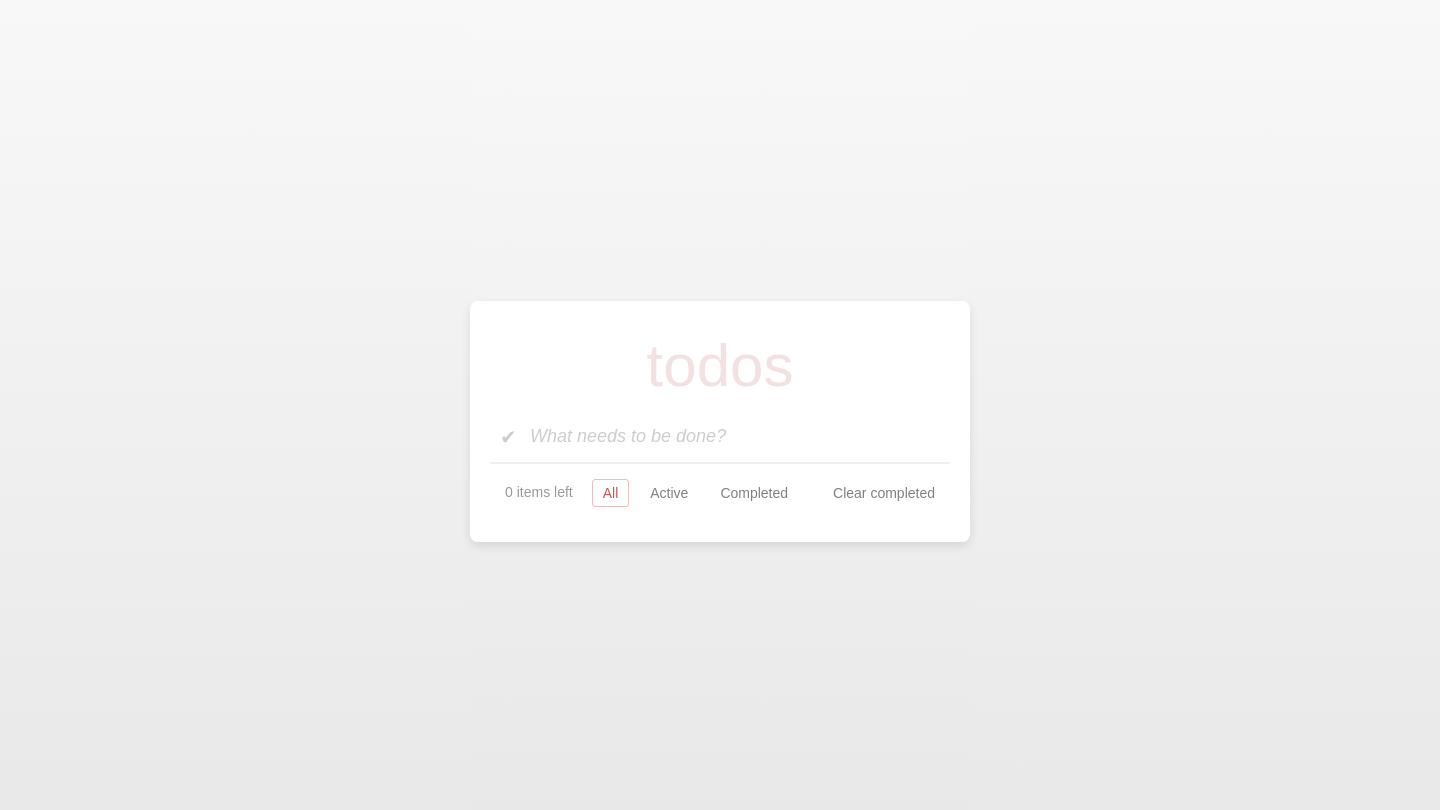
it: Тестирование списка дел (Todo App) › фильтрует задачи (только активные)
Step 1. Type "Активная задача" into the field with placeholder "What needs to be done?" → coordinates (720, 436), box [490, 410, 950, 462]
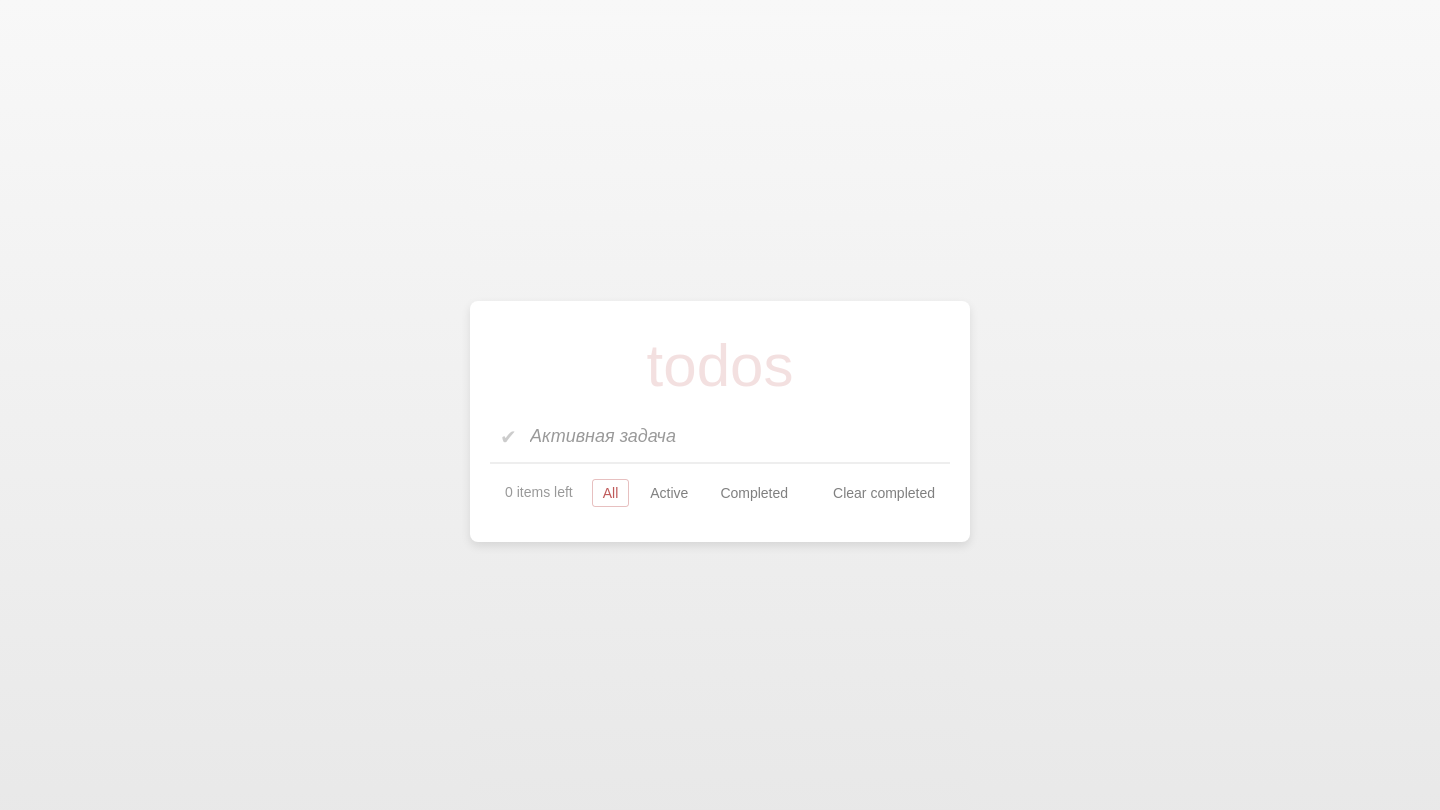
Step 2. Press Enter in the field with placeholder "What needs to be done?", box [490, 410, 950, 462]
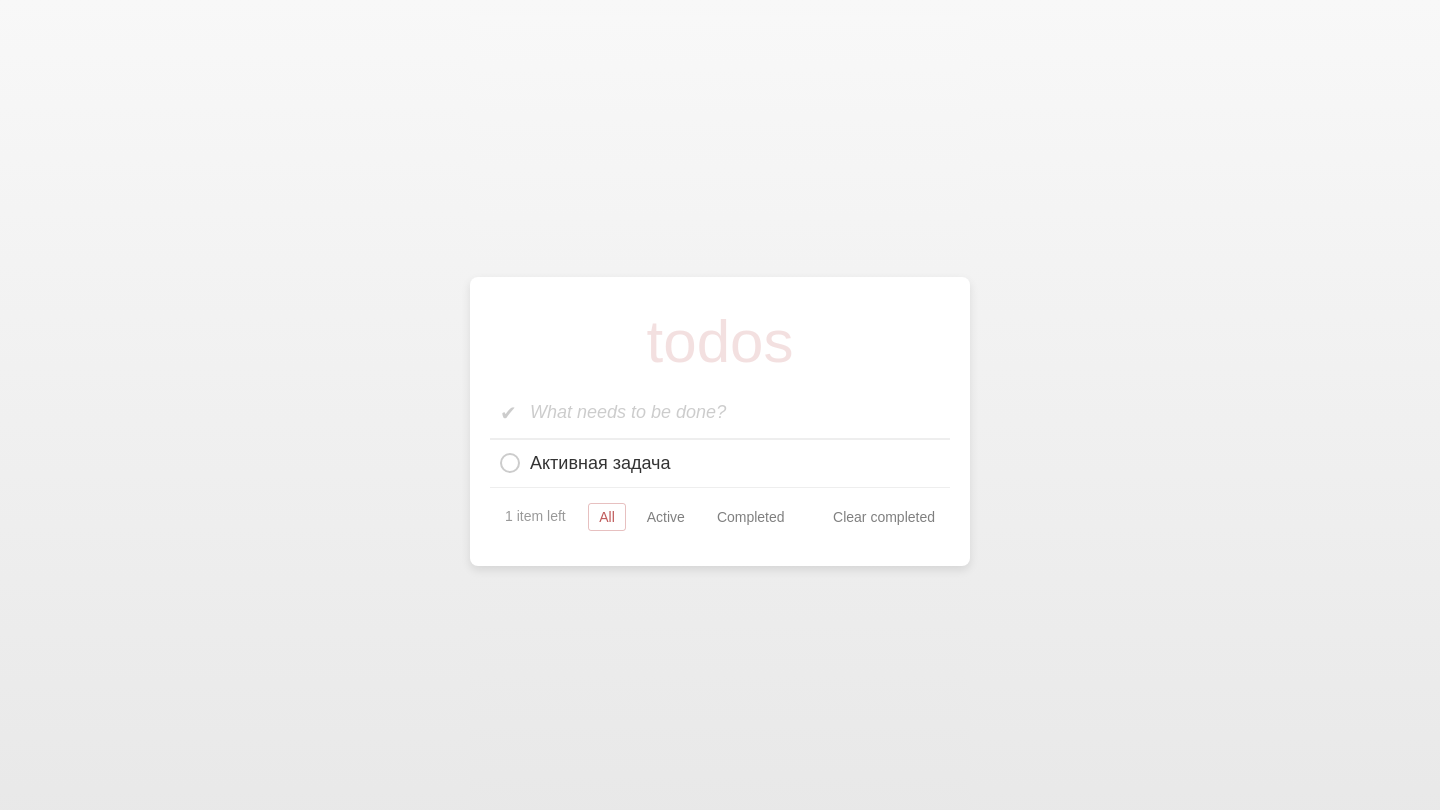
Step 3. Type "Завершенная задача" into the field with placeholder "What needs to be done?" → coordinates (720, 412), box [490, 386, 950, 438]
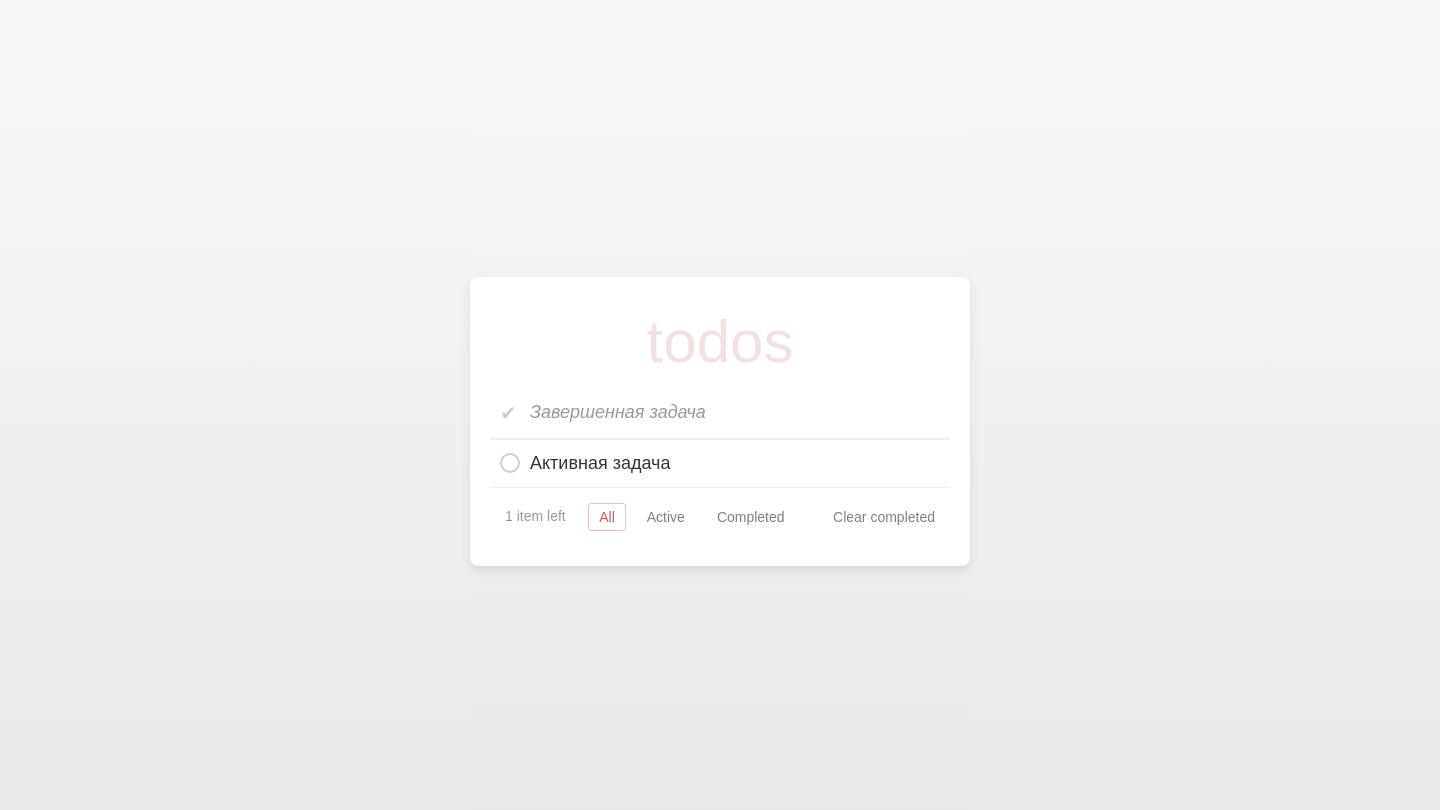
Step 4. Press Enter in the field with placeholder "What needs to be done?", box [490, 386, 950, 438]
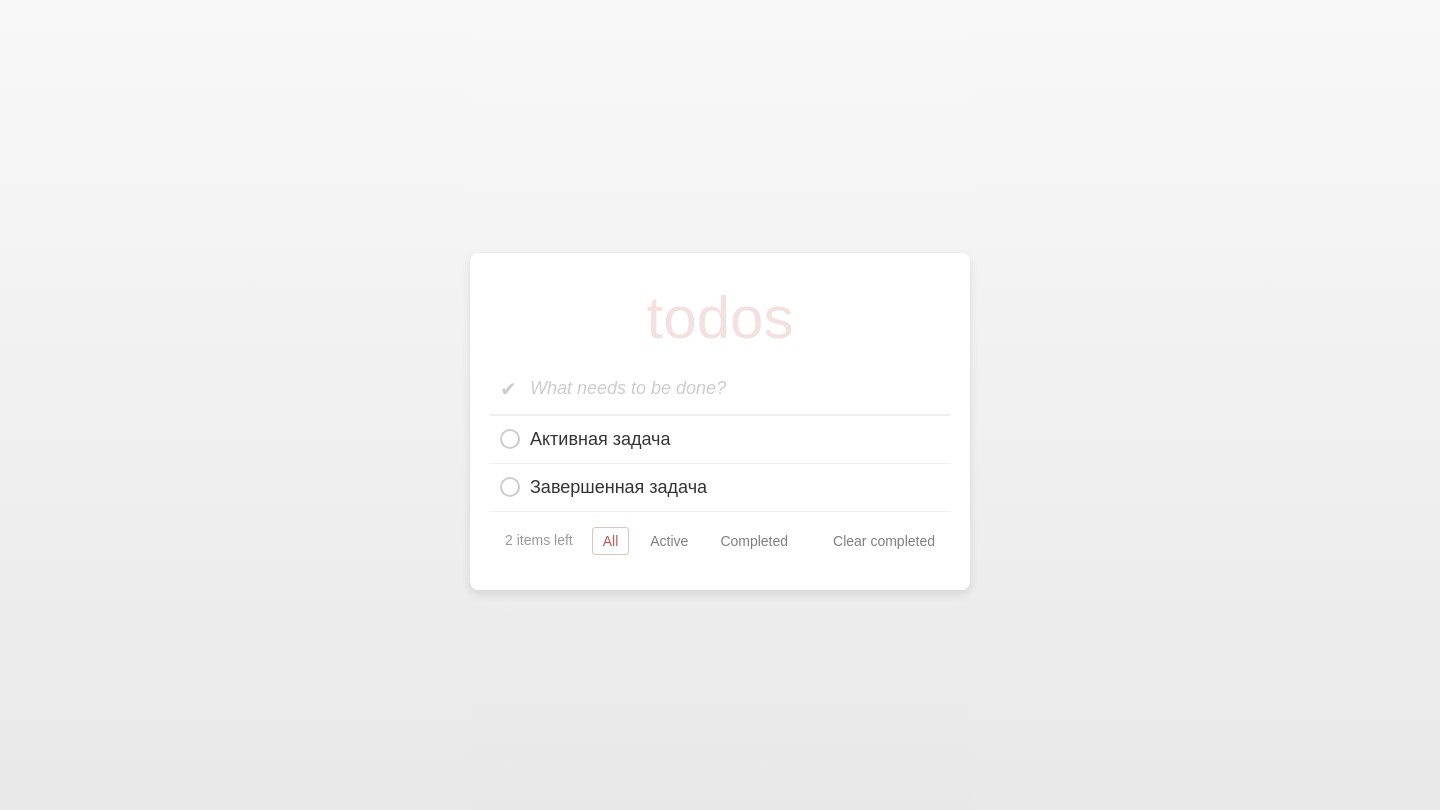
Step 5. Click the checkbox next to "Завершенная задача" → coordinates (510, 487), box [500, 477, 520, 497]
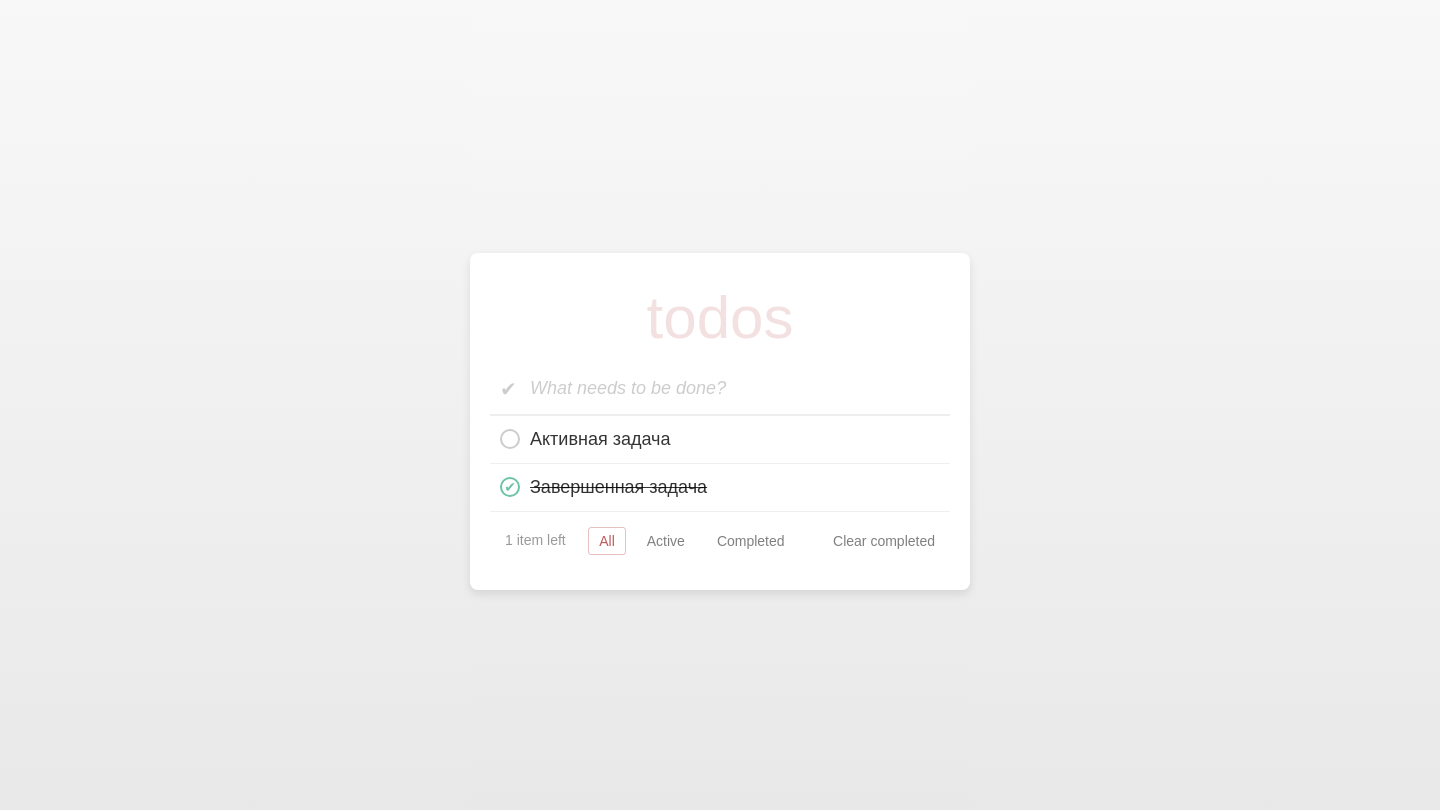
Step 6. Click the button "Active" → coordinates (666, 540), box [636, 526, 696, 554]
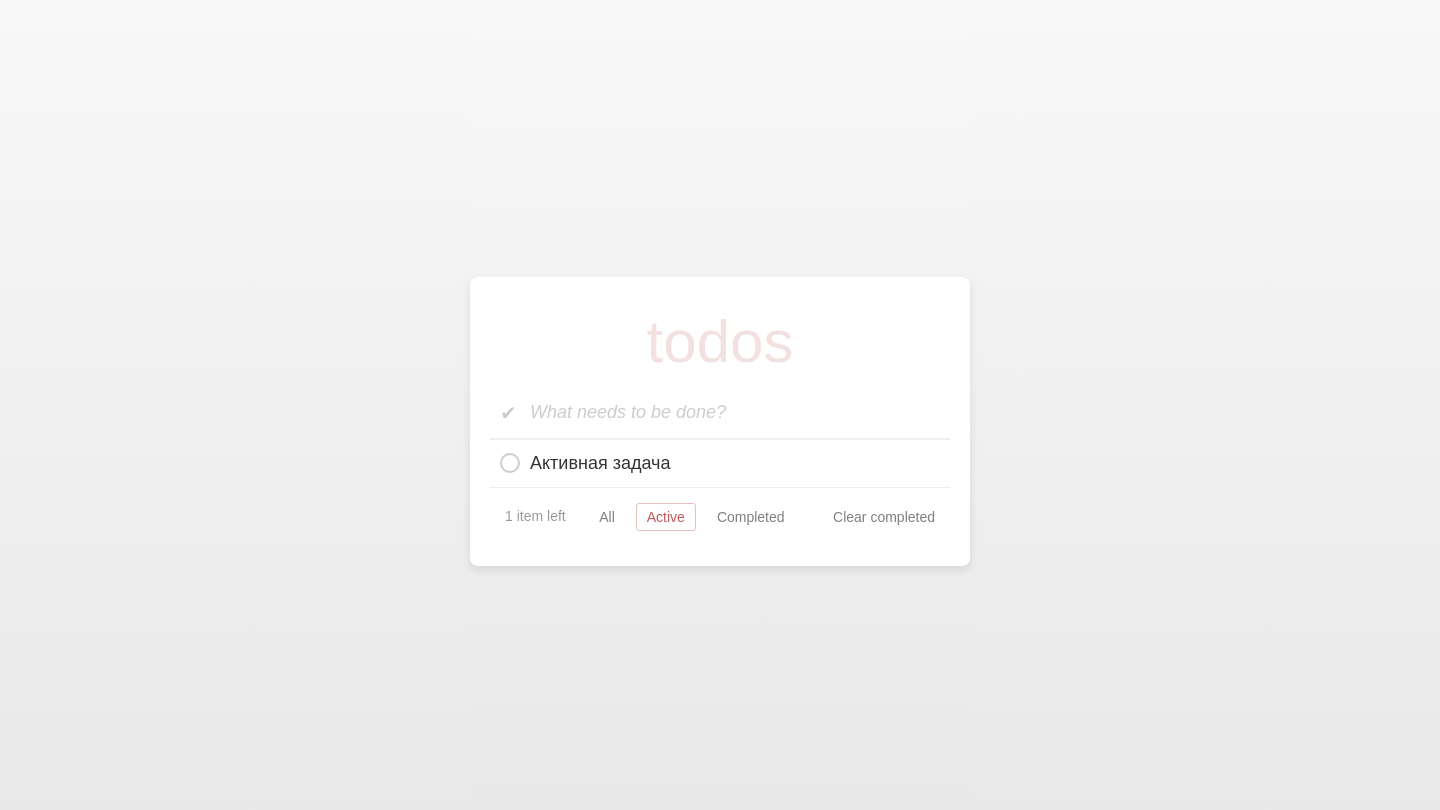
Expected: the text "Активная задача" is shown, [530, 450, 670, 476]
Expected: the text "Завершенная задача" is gone
